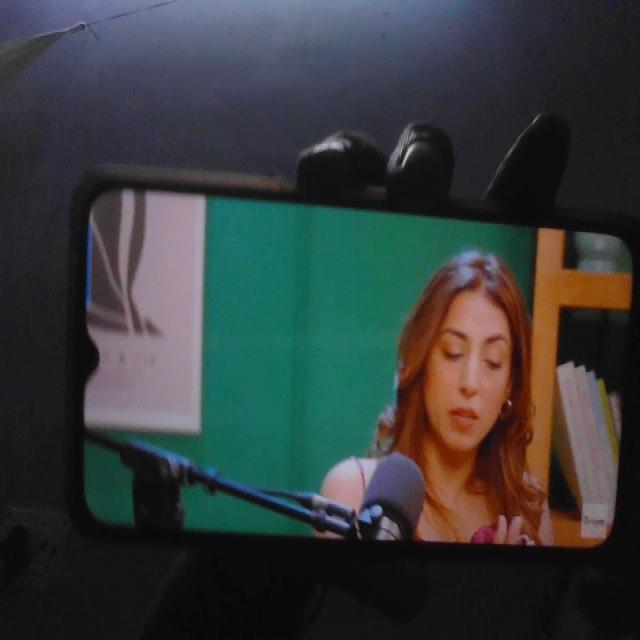fake: (406, 235, 528, 465)
